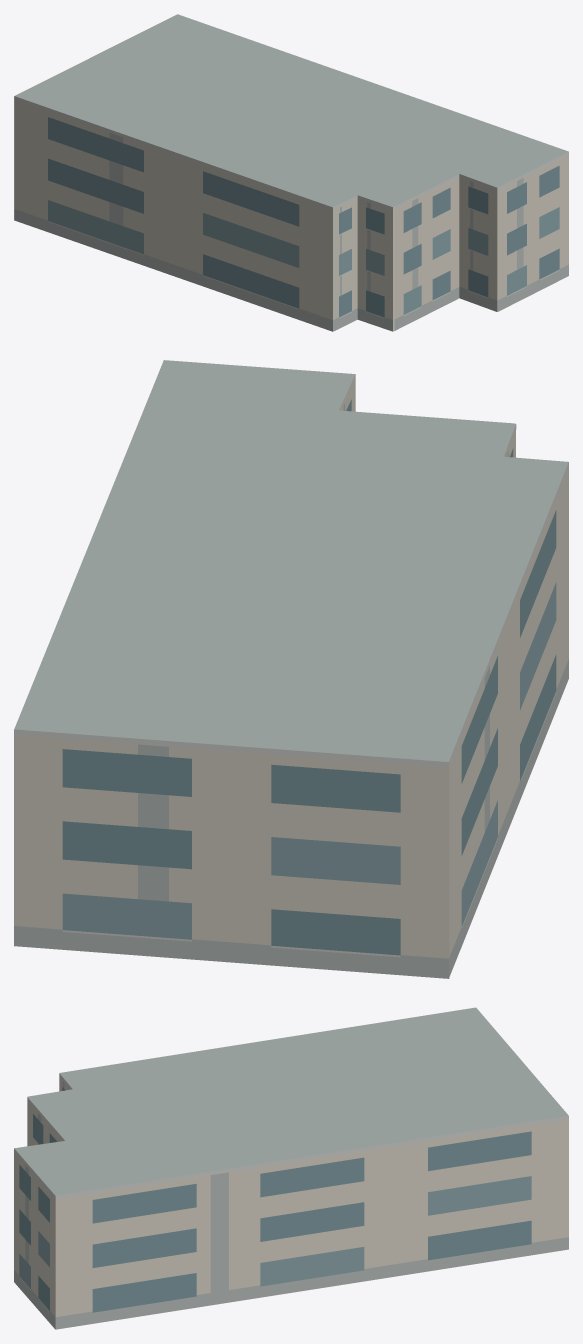
File: survey-upis-32854071.glb
3 views of the same model, one above another, from view 1: azimuth 30°, elevation 25°; view 2: azimuth 150°, elevation 25°; view 3: azimuth 270°, elevation 25° (orthographic). The views are drawn at different scales.
Visible parts, largest first — view 1: survey-upis-32854071.tmp; view 2: survey-upis-32854071.tmp; view 3: survey-upis-32854071.tmp.
Part boxes in pixels (x1,y1,x2,y2): survey-upis-32854071.tmp: (14, 14, 568, 331); survey-upis-32854071.tmp: (14, 360, 568, 978); survey-upis-32854071.tmp: (14, 1007, 568, 1329).
Size of the model in its own units: 27.67 by 9.15 by 34.4.
